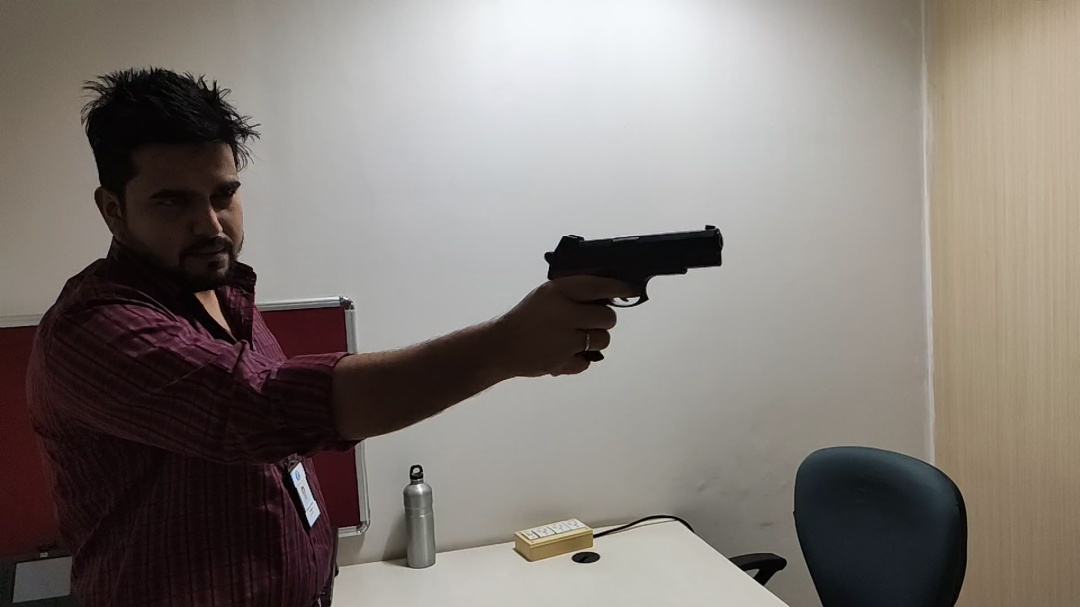gun: (572, 226, 639, 314)
